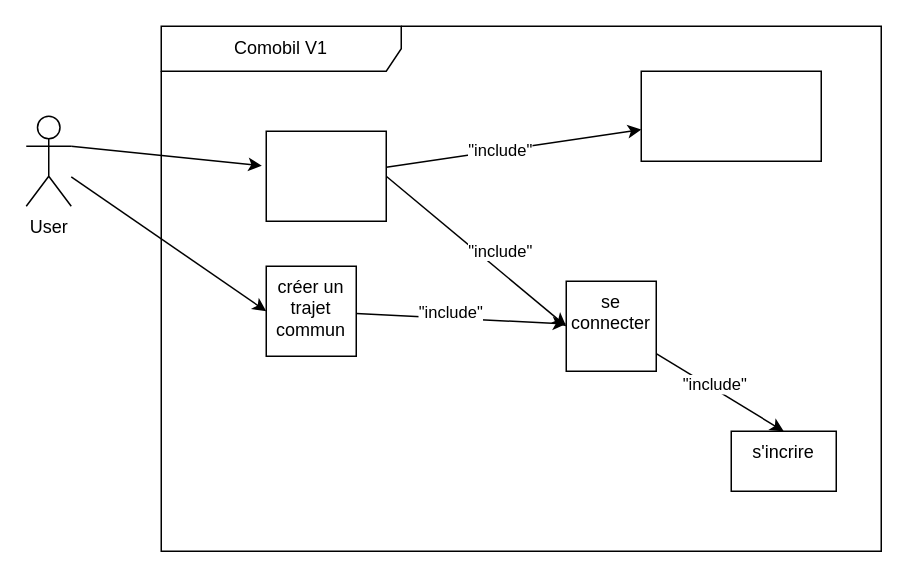
This 908x578 diagram has some shape labels left out. The shapes that lost their labels are listed below. From the top down, each one's box as (x1, y1, x2, y2) in pixels, then its label:
(640, 70, 821, 161): trajet commun existant
(265, 130, 386, 221): rejoindre un trajet commun
